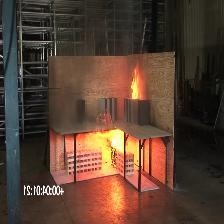fire: (89, 123, 130, 172), (117, 62, 149, 108)
